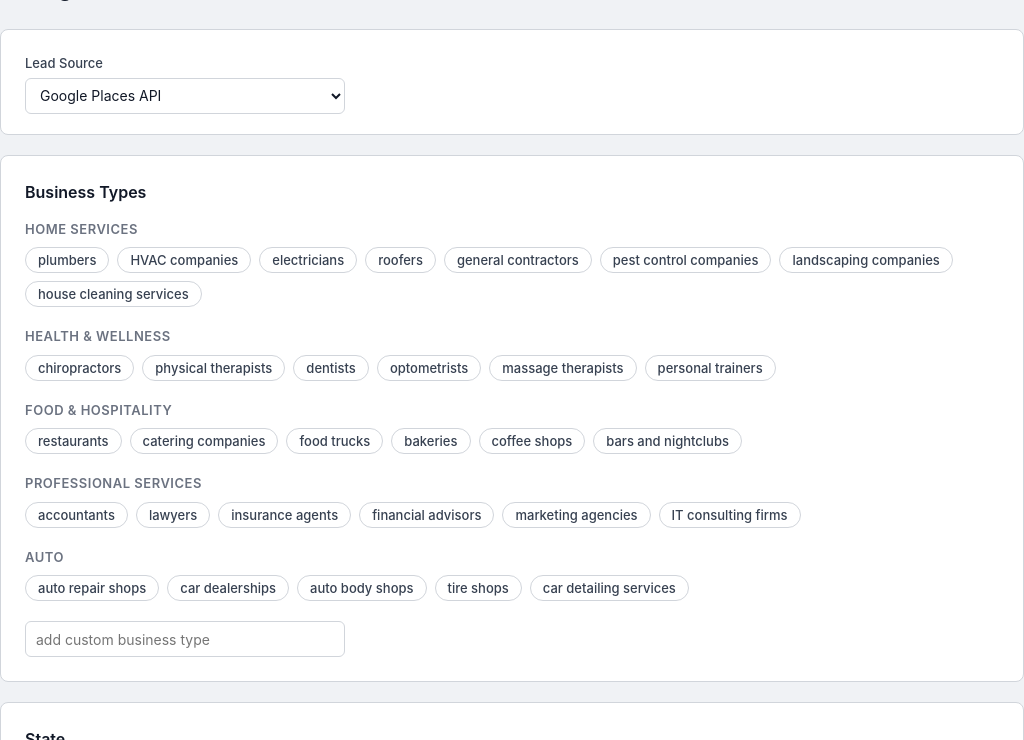
Test: ConfigBuilder - Run button fetches estimate › clicking Run fetches POST /api/runs/estimate and displays cycling confirm step
The image size is (1024, 740).
Click the checkbox labelled "plumbers" at (67, 260), box [25, 247, 109, 273]
(page scrolled)
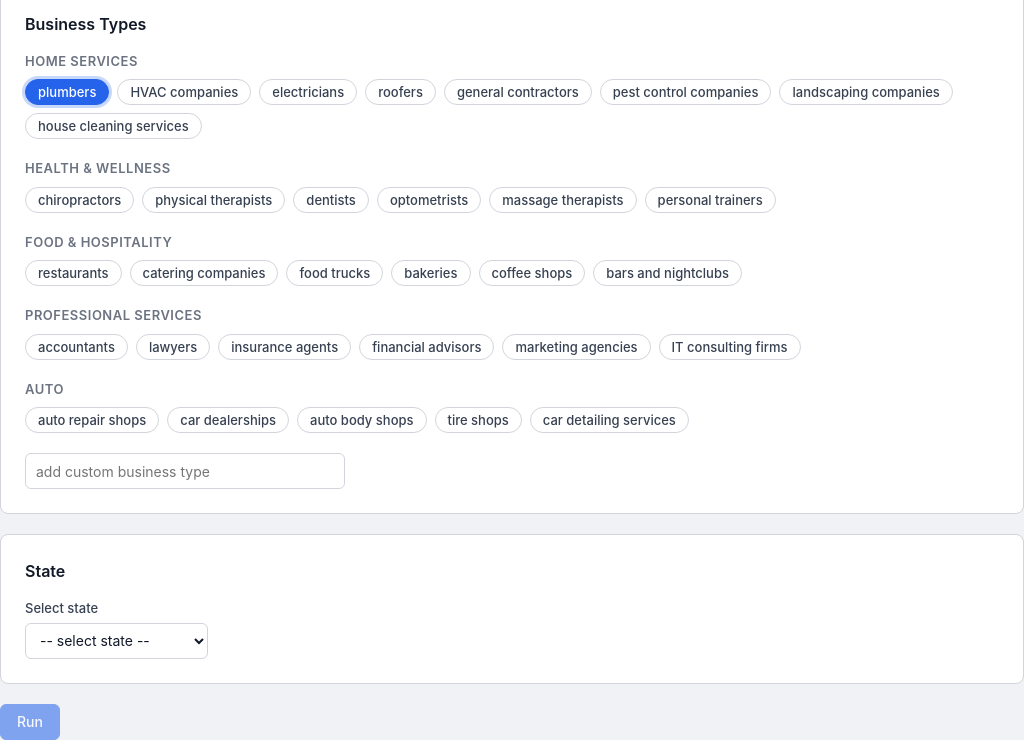
Select "Texas (TX)" in the dropdown labelled "Select state" at (116, 640), box [25, 622, 208, 658]
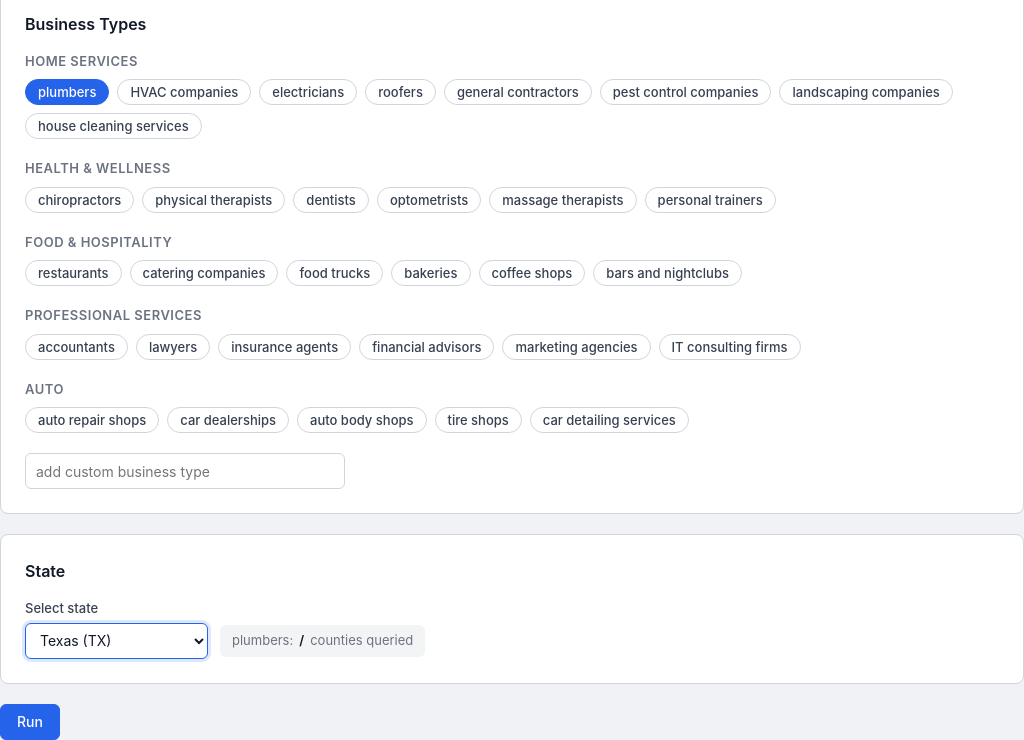
Click the button "Run" at (30, 722), box [0, 704, 60, 739]
(page scrolled)
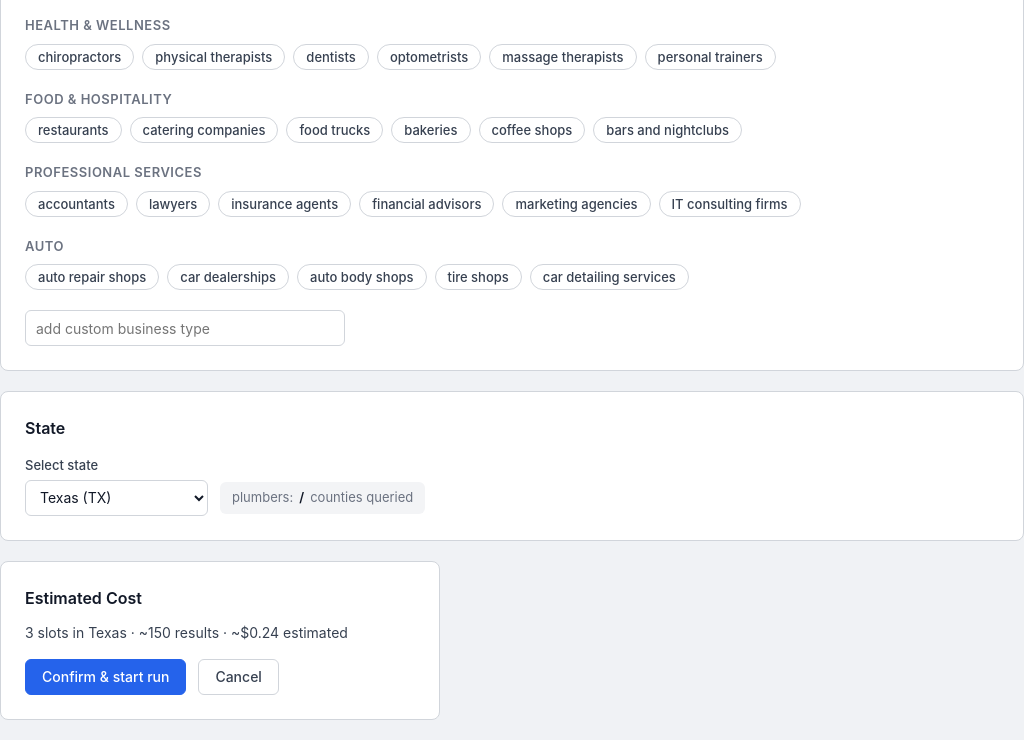
Now the text "3 slots in Texas · ~150 results · ~$0.24 estimated" is shown, box [25, 624, 348, 640]
